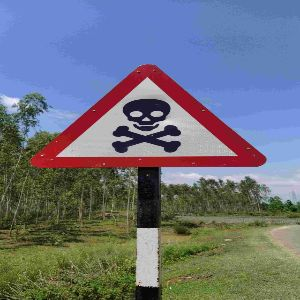Accident prone area: (23, 57, 271, 177)
